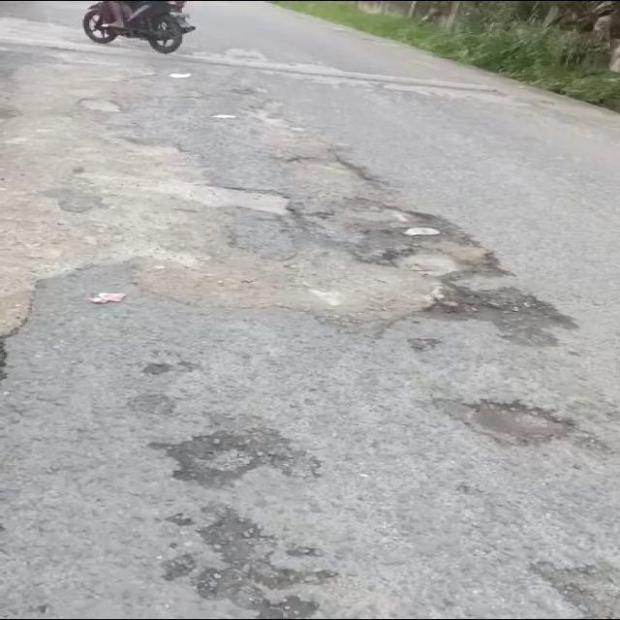lubang: (0, 114, 574, 369), (152, 415, 336, 617), (431, 397, 574, 444), (530, 559, 619, 617)
